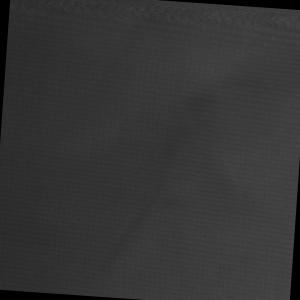Wrinkle: (84, 46, 300, 292)
